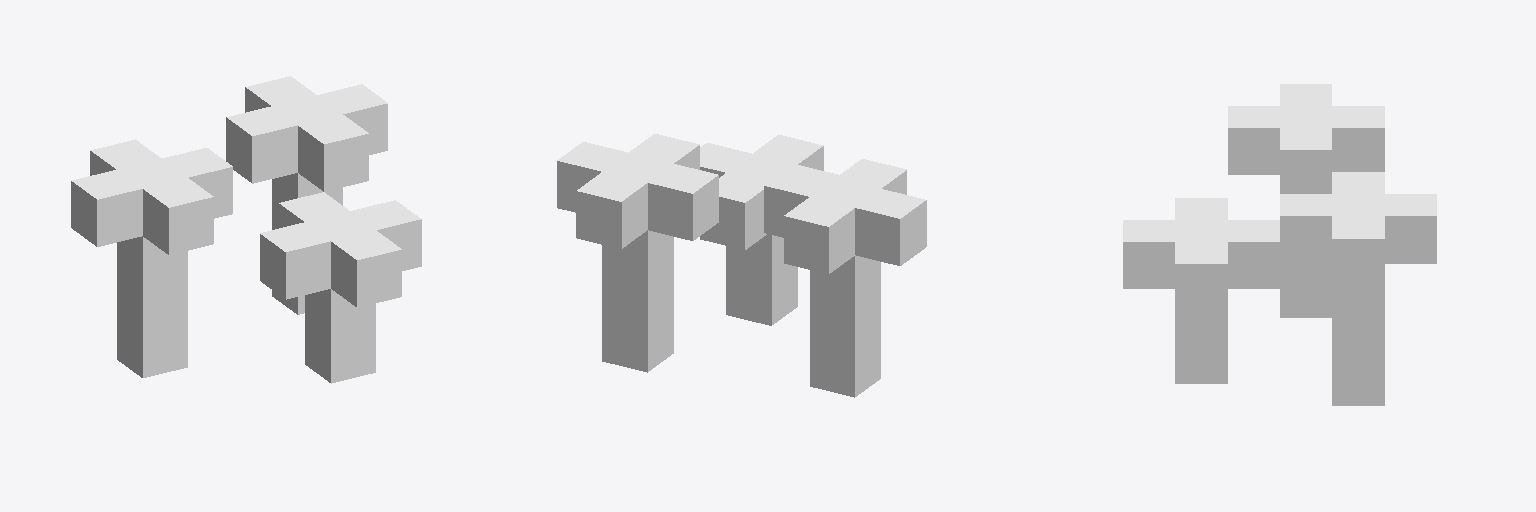
Rendered from FlowerBlue.obj.
3 renders of one model, left to right at view 1: azimuth 30°, elevation 25°; view 2: azimuth 150°, elevation 25°; view 3: azimuth 270°, elevation 25°, orthographic.
Parts seen in each view (by area): view 1: object 1; view 2: object 1; view 3: object 1.
Part boxes in pixels (left/top/right/bottom): object 1: left=71, top=76, right=421, bottom=383; object 1: left=557, top=134, right=926, bottom=397; object 1: left=1123, top=84, right=1436, bottom=405.
Bounding box in the file's own units: 0.7 × 0.4 × 0.6.